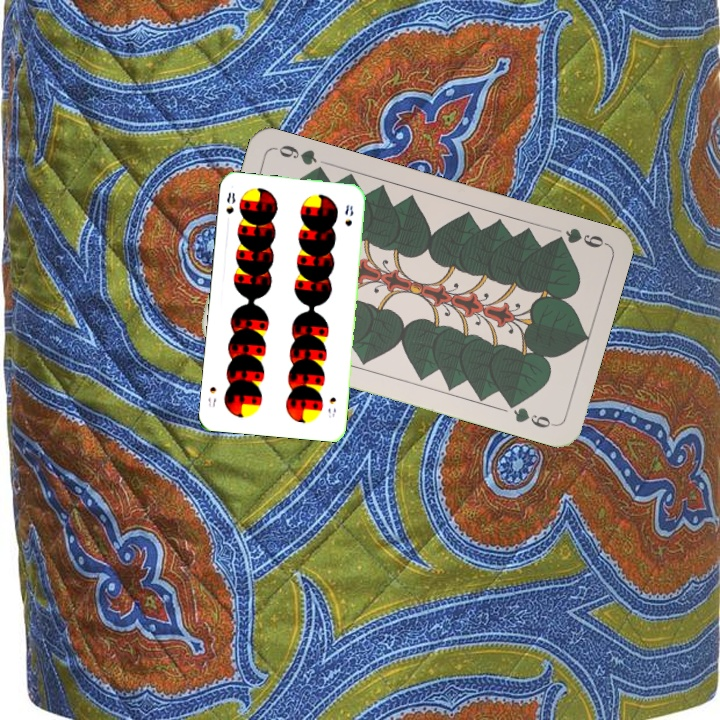G9: (548, 224, 609, 251)
S8: (222, 188, 238, 216), (324, 393, 339, 420)
